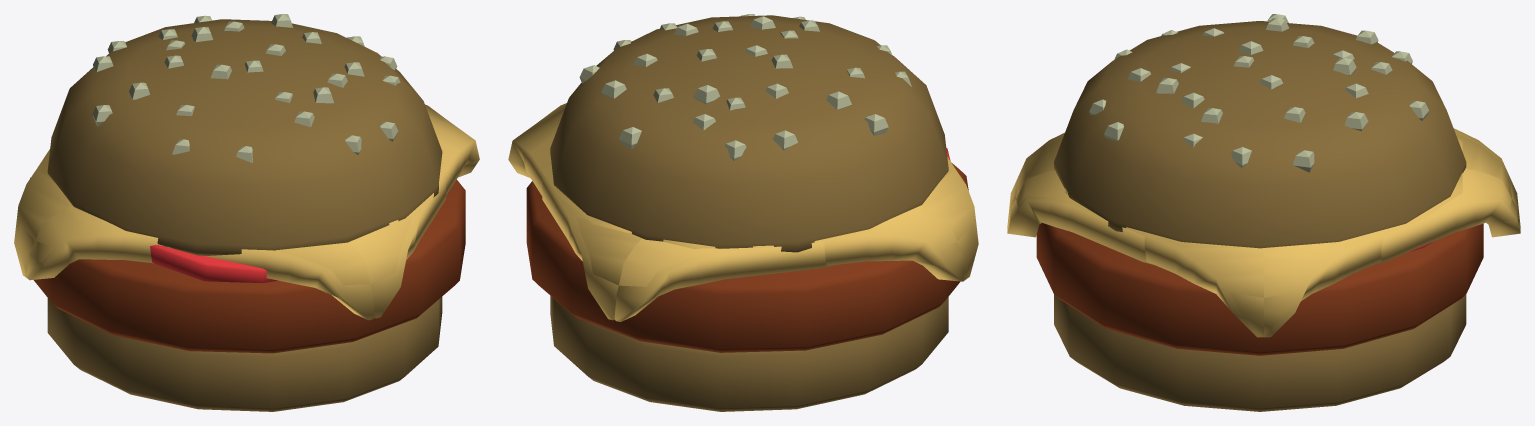
Rendered from Burger.fbx.
3 views of the same model, side by side, from view 1: azimuth 30°, elevation 25°; view 2: azimuth 150°, elevation 25°; view 3: azimuth 270°, elevation 25° (orthographic).
Parts seen in each view (by area): view 1: Brot, Bullete, Kaese, Kaese.001, Koernung, Tomate_02; view 2: Brot, Bullete, Kaese.001, Kaese, Koernung; view 3: Brot, Bullete, Kaese.001, Kaese, Koernung.
Part boxes in pixels (x1,y1,x2,y2): Brot: (47, 19, 442, 411); Bullete: (30, 177, 465, 353); Kaese: (14, 104, 479, 280); Kaese.001: (167, 172, 446, 320); Koernung: (92, 14, 400, 163); Tomate_02: (150, 244, 277, 282); Brot: (550, 15, 948, 411); Bullete: (526, 162, 968, 352); Kaese.001: (542, 173, 837, 321); Kaese: (508, 103, 978, 281); Koernung: (579, 14, 911, 161); Brot: (1054, 21, 1466, 411); Bullete: (1036, 223, 1483, 355); Kaese.001: (1007, 128, 1520, 264); Kaese: (1065, 138, 1462, 337); Koernung: (1089, 14, 1428, 172).
Size of the model in its own units: 17.69 by 10.54 by 17.74.
